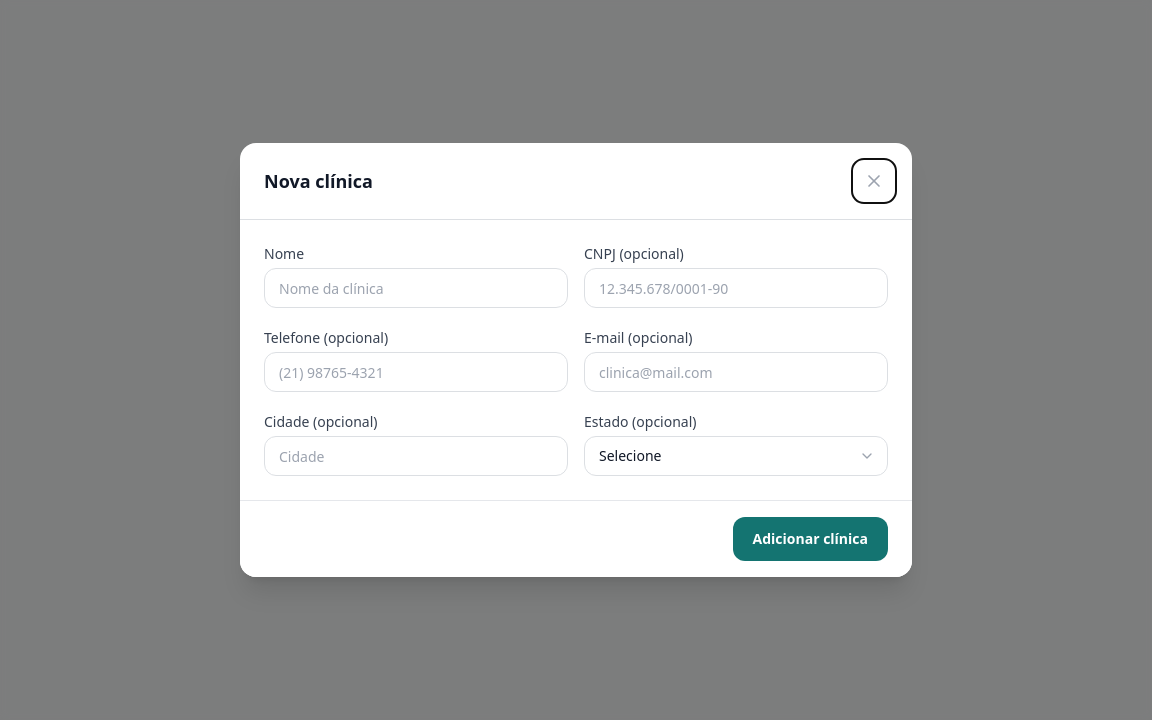
it: modal de cadastro — clínica › não envia sem nome e mostra o erro do schema
Click the button "Adicionar clínica" at (810, 539), box [733,517,888,561]
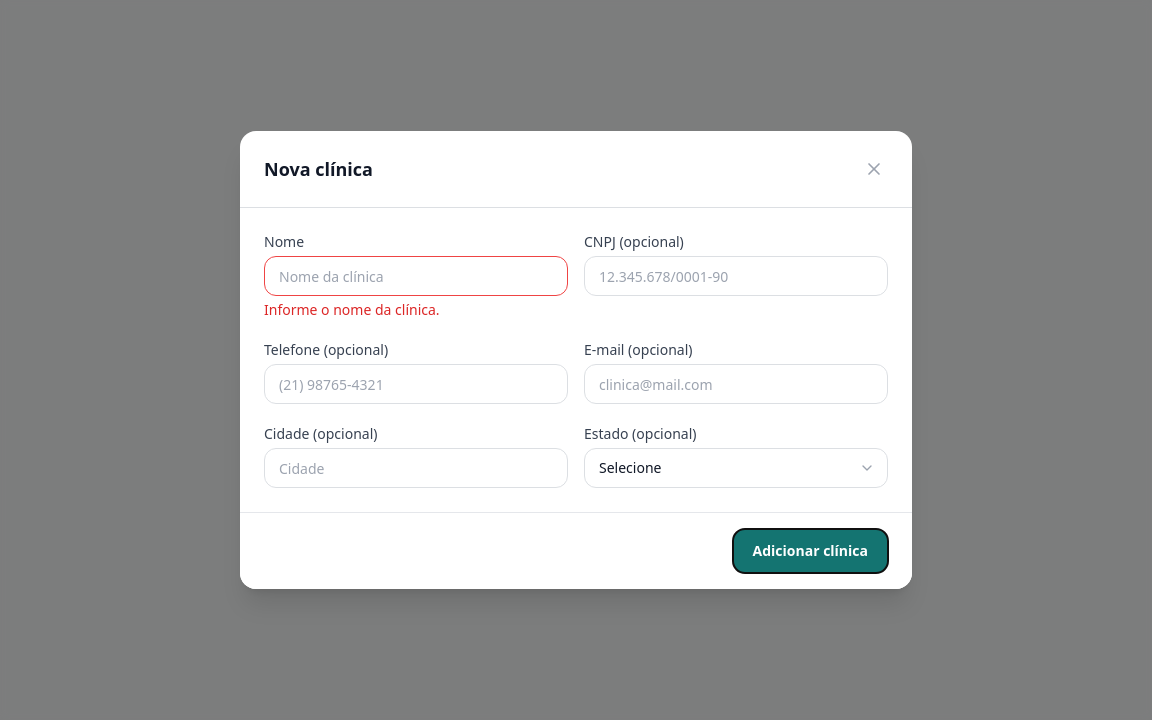
Result: the message shows "Informe o nome" at [264,300,440,319]
